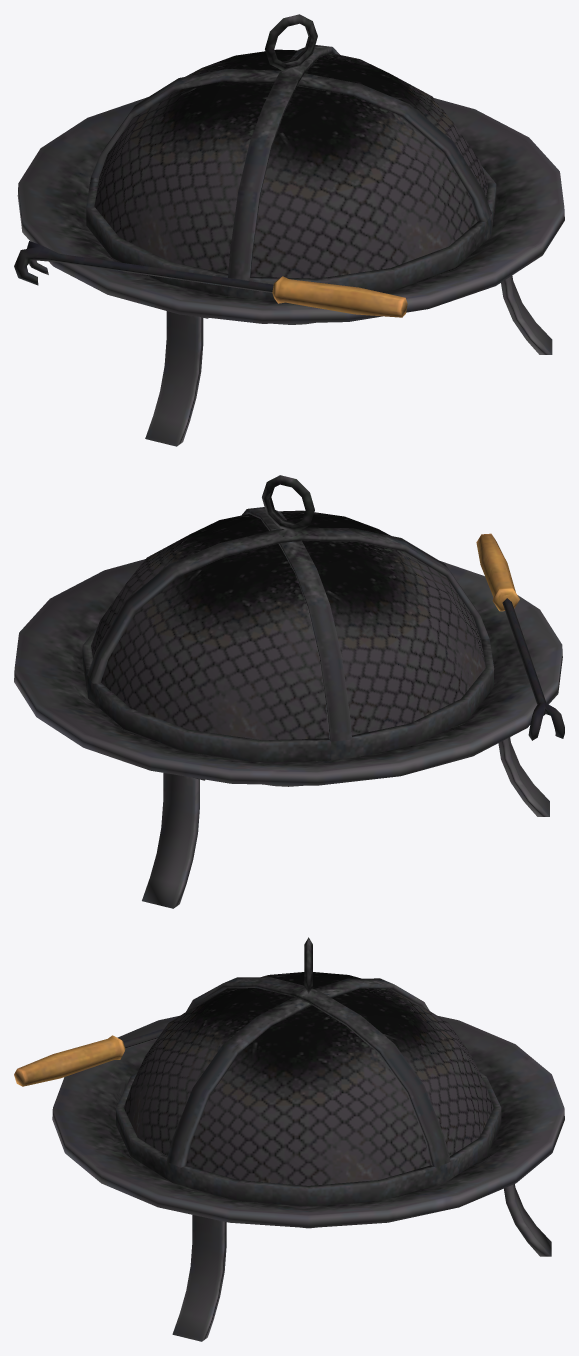
The model's file is FtrFirepit.glb.
3 views of the same model, one above another, from view 1: azimuth 30°, elevation 25°; view 2: azimuth 150°, elevation 25°; view 3: azimuth 270°, elevation 25° (orthographic). The views are drawn at different scales.
Parts seen in each view (by area): view 1: Ironbody_low__mBody, big_nuki__mWireMeshFence; view 2: Ironbody_low__mBody, big_nuki__mWireMeshFence; view 3: Ironbody_low__mBody, big_nuki__mWireMeshFence.
Part boxes in pixels (left/top/right/bottom): Ironbody_low__mBody: left=14, top=14, right=564, bottom=446; big_nuki__mWireMeshFence: left=94, top=49, right=488, bottom=278; Ironbody_low__mBody: left=14, top=475, right=564, bottom=908; big_nuki__mWireMeshFence: left=91, top=510, right=485, bottom=740; Ironbody_low__mBody: left=14, top=937, right=564, bottom=1341; big_nuki__mWireMeshFence: left=123, top=972, right=493, bottom=1185.
Bounding box in the file's own units: 11.63 × 7.15 × 11.58.
2 materials, 2 textured.
